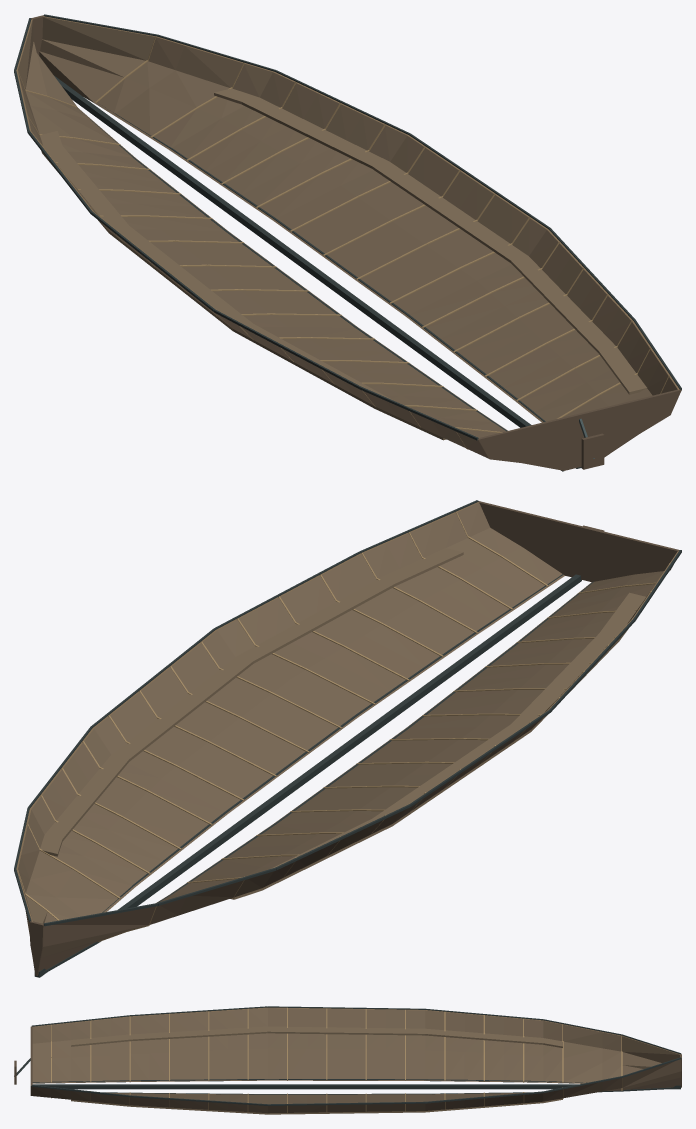
Rendered from S2_Hull_Lower.fbx.
The picture shows the model from 3 angles, top to bottom: view 1: azimuth 30°, elevation 25°; view 2: azimuth 150°, elevation 25°; view 3: azimuth 270°, elevation 25°; orthographic projection. The views are drawn at different scales.
Parts seen in each view (by area): view 1: S2_Hull_Lower; view 2: S2_Hull_Lower; view 3: S2_Hull_Lower.
Part boxes in pixels (bbox=[...]): S2_Hull_Lower: bbox=[14, 14, 681, 471]; S2_Hull_Lower: bbox=[14, 500, 681, 977]; S2_Hull_Lower: bbox=[14, 1006, 681, 1114].
Bounding box in the file's own units: 35.52 × 5.56 × 102.
